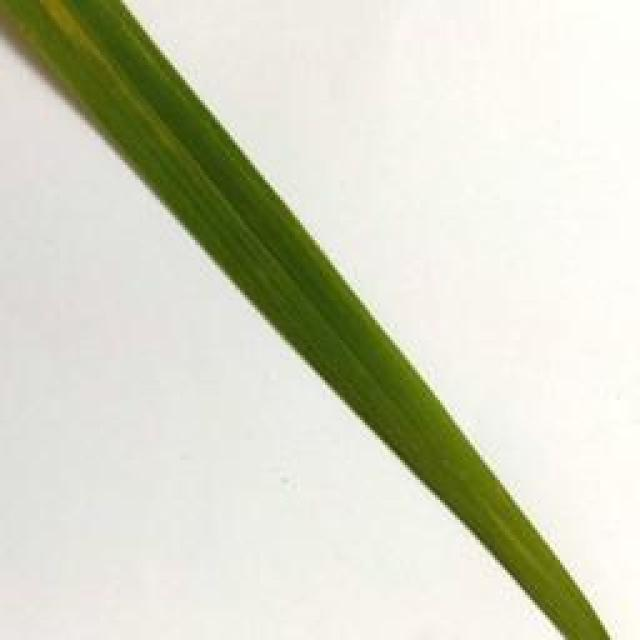Healthy-Plant: (166, 122, 394, 420)
